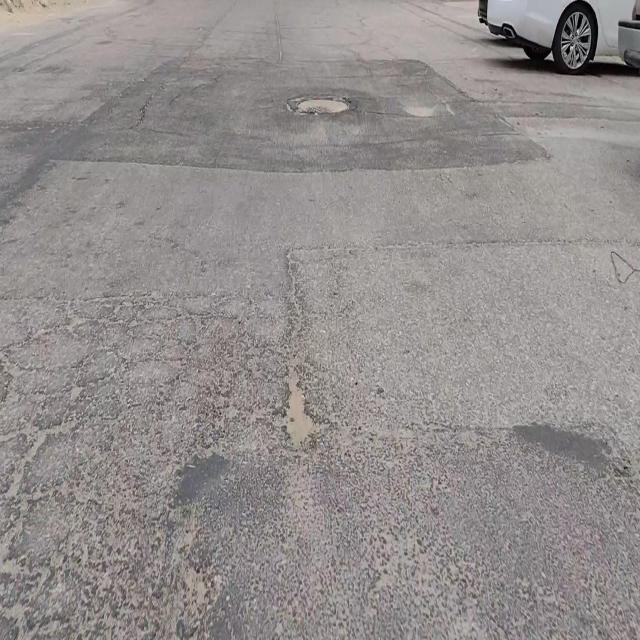Potholes: (292, 90, 350, 116)
